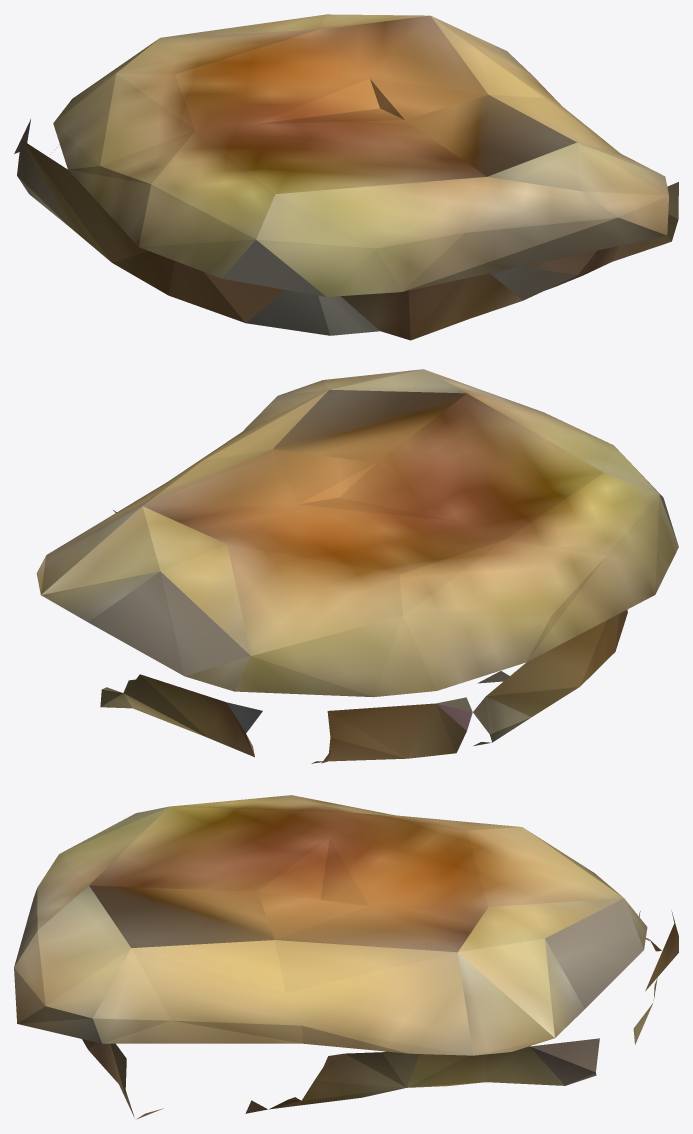
The model's file is bun-bottom.glb.
The picture shows the model from 3 angles, top to bottom: view 1: azimuth 30°, elevation 25°; view 2: azimuth 150°, elevation 25°; view 3: azimuth 270°, elevation 25°; orthographic projection. The views are drawn at different scales.
Visible parts, largest first — view 1: bun-bottom; view 2: bun-bottom; view 3: bun-bottom.
Boxes of the visible parts, box(x1,y1,x2,y2) form: bun-bottom: box(14, 14, 678, 340); bun-bottom: box(36, 369, 678, 763); bun-bottom: box(14, 795, 678, 1119).
Size of the model in its own units: 8.57 by 2.23 by 9.99.
2 materials, 2 textured.
